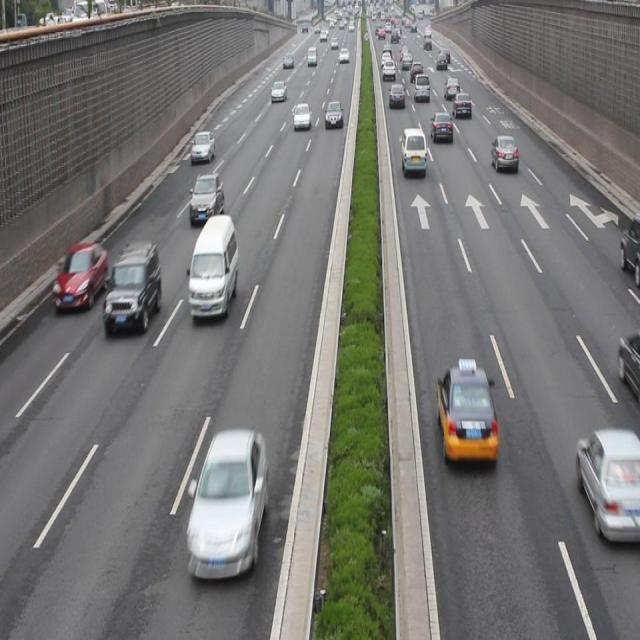car: (186, 430, 268, 573), (576, 426, 640, 545), (436, 364, 497, 462), (104, 240, 162, 330), (54, 240, 107, 310), (189, 173, 224, 226), (492, 134, 518, 172), (190, 130, 215, 162), (429, 111, 452, 145)
truck: (188, 215, 237, 317), (399, 127, 428, 175)
